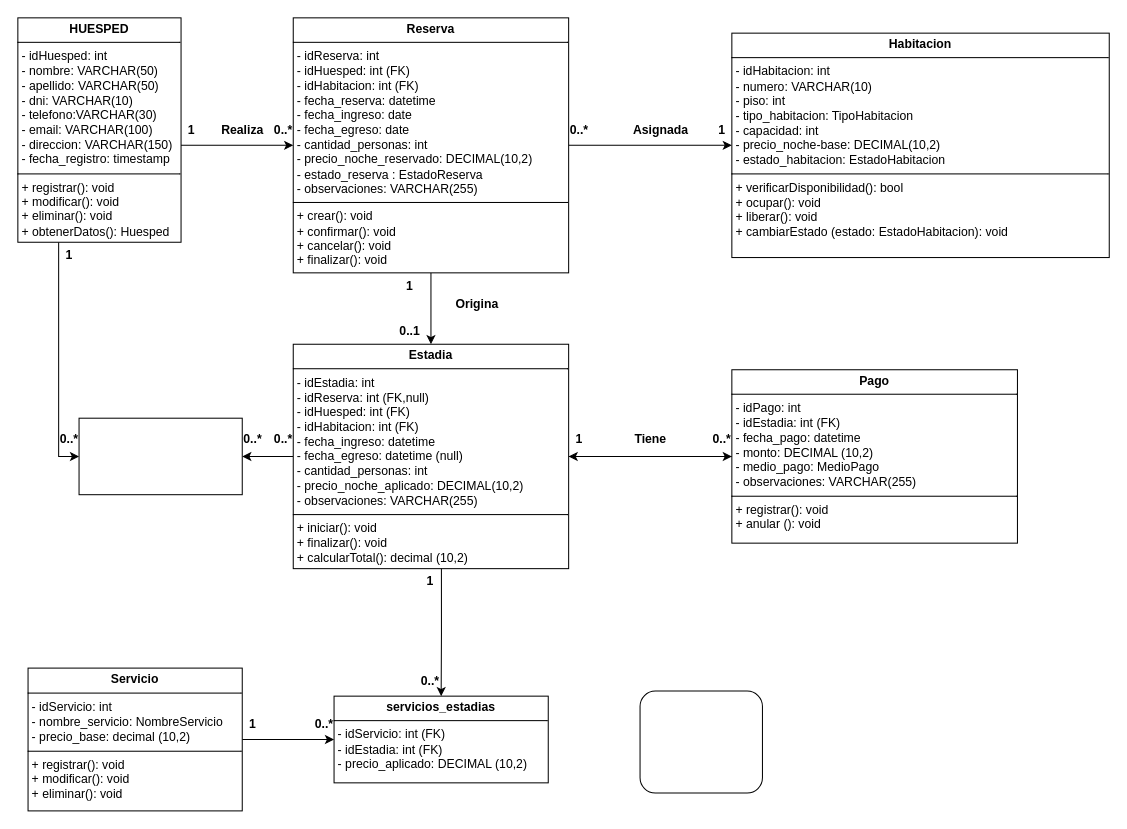
The diagram is 1127 pixels wide and 829 high, and some of its shapes have lost their labels. Here are the shapes that lost their labels. From the top down, the box of each, then its label:
(78, 417, 242, 495): huespedes_estadias - idHuesped: int (FK) - idEstadia: int (FK)
(639, 690, 762, 793): Notas: 1 uno 0..1 Cero o Uno 0..* Cero o Muchos * Muchos
